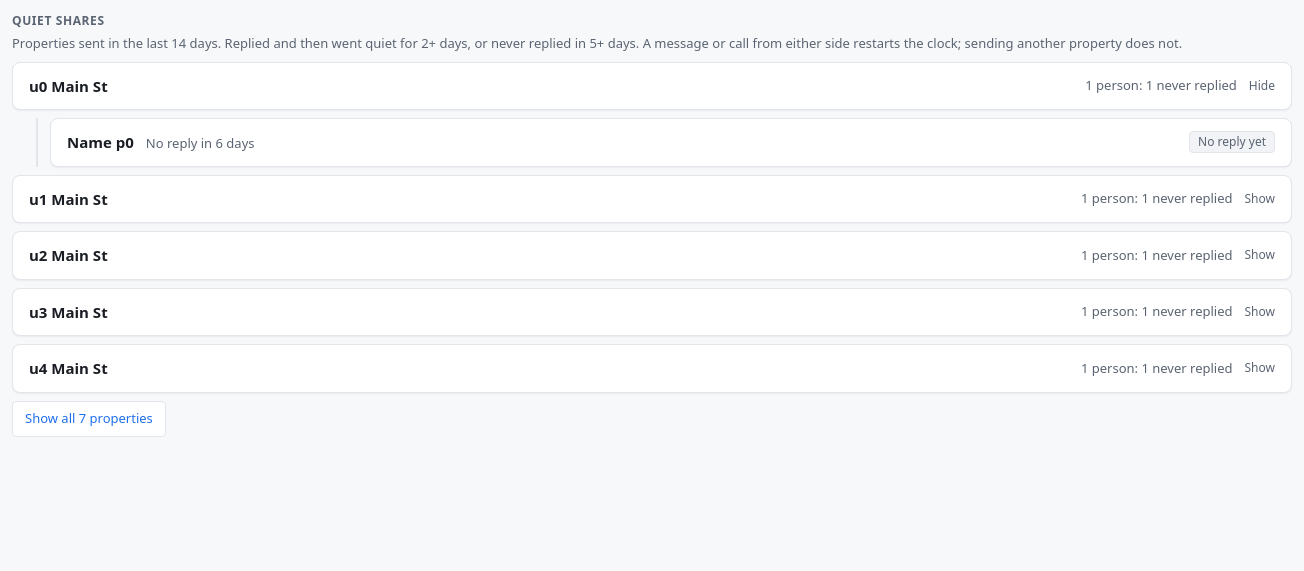
Test: QuietSharesSection (option C) › more than 5 properties: "Show all N properties" expands in place
Expected: the number of buttons named "Main St, " is 5, [12,62,1292,110]; [12,174,1292,223]; [12,231,1292,280]; [12,288,1292,336]; [12,344,1292,392]
Click the button "Show all 7 properties" at (89,418), box [12,400,166,436]
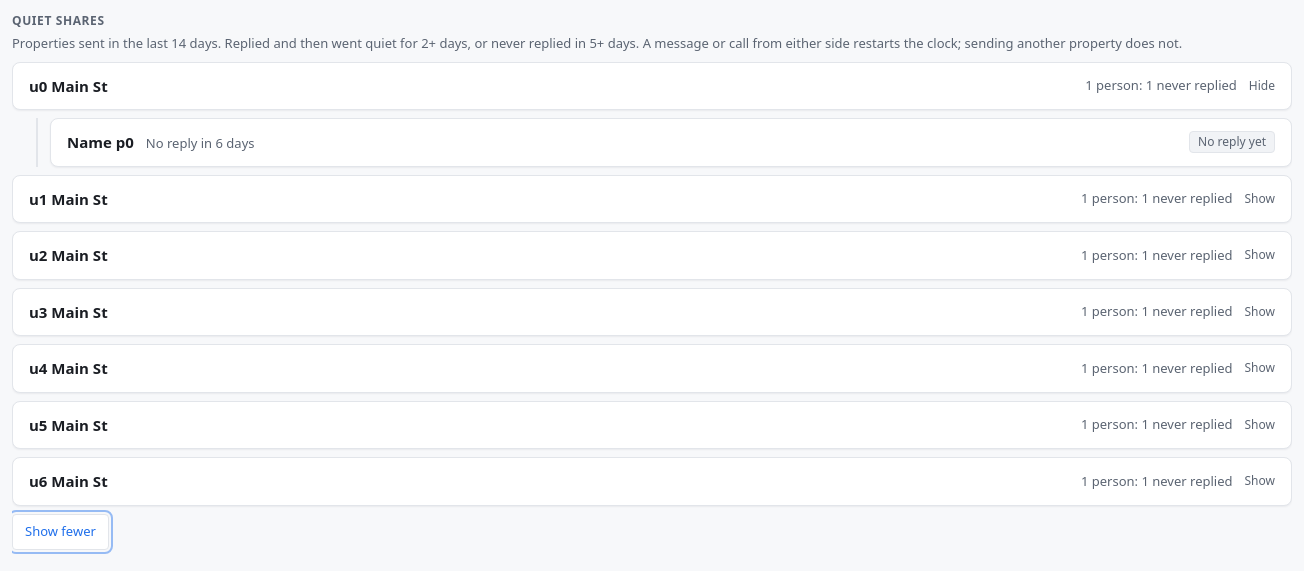
Result: the number of buttons named "Main St, " is 7
Result: the button named "Show all 7 properties" is expanded at [12,514,109,550]
